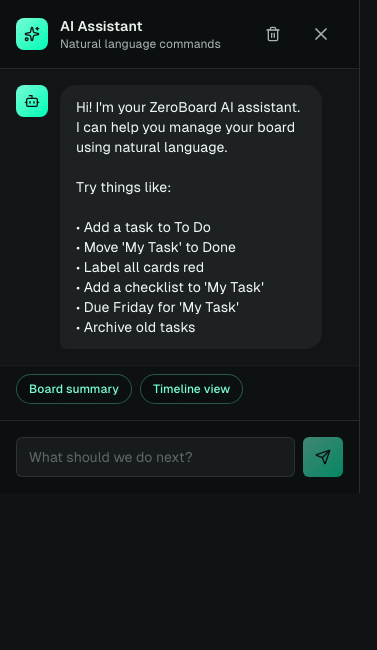
Test: AI shared-board permissions › permits creating a separate owned board while viewing a shared read-only board
Type "Update this card" into the field with placeholder "What should we do next?" at (156, 457), box [16, 437, 295, 477]
Then press Enter
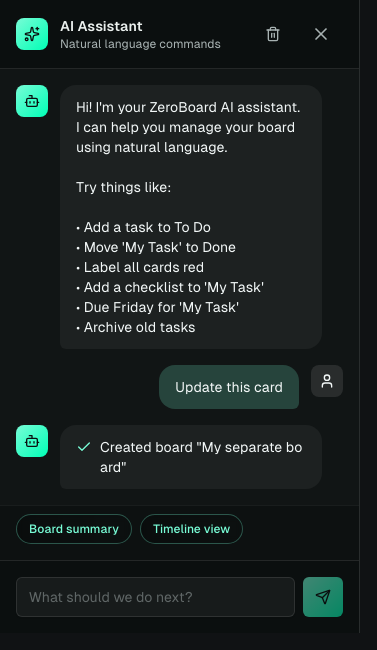
expect the text "Created board \"My separate board\"" is shown: met, box [100, 437, 306, 477]
